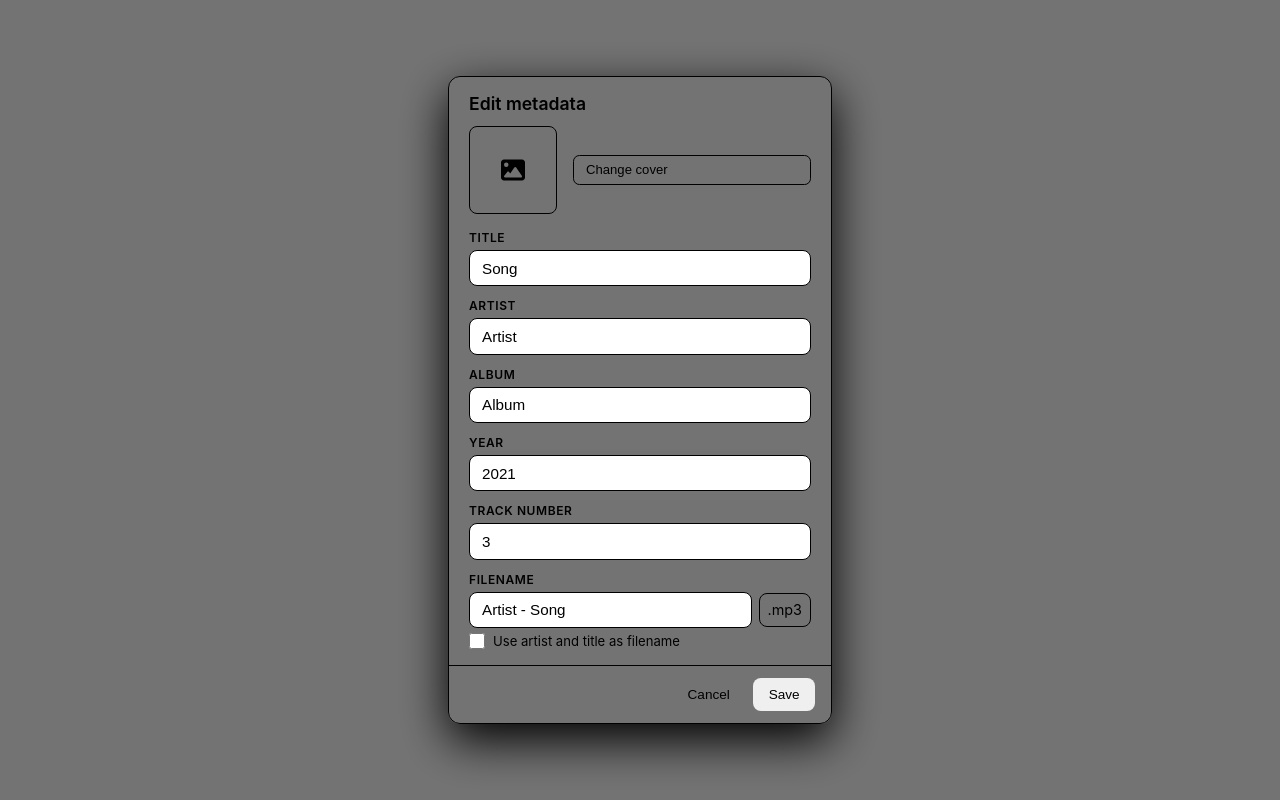
Test: EditMetadataModal › auto-filename checkbox › disables the filename input while checkbox is checked
What coordinates should you click on to do the following:
click the checkbox
I would click on:
 (477, 641)
Its box is top-left (469, 633), bottom-right (485, 649).
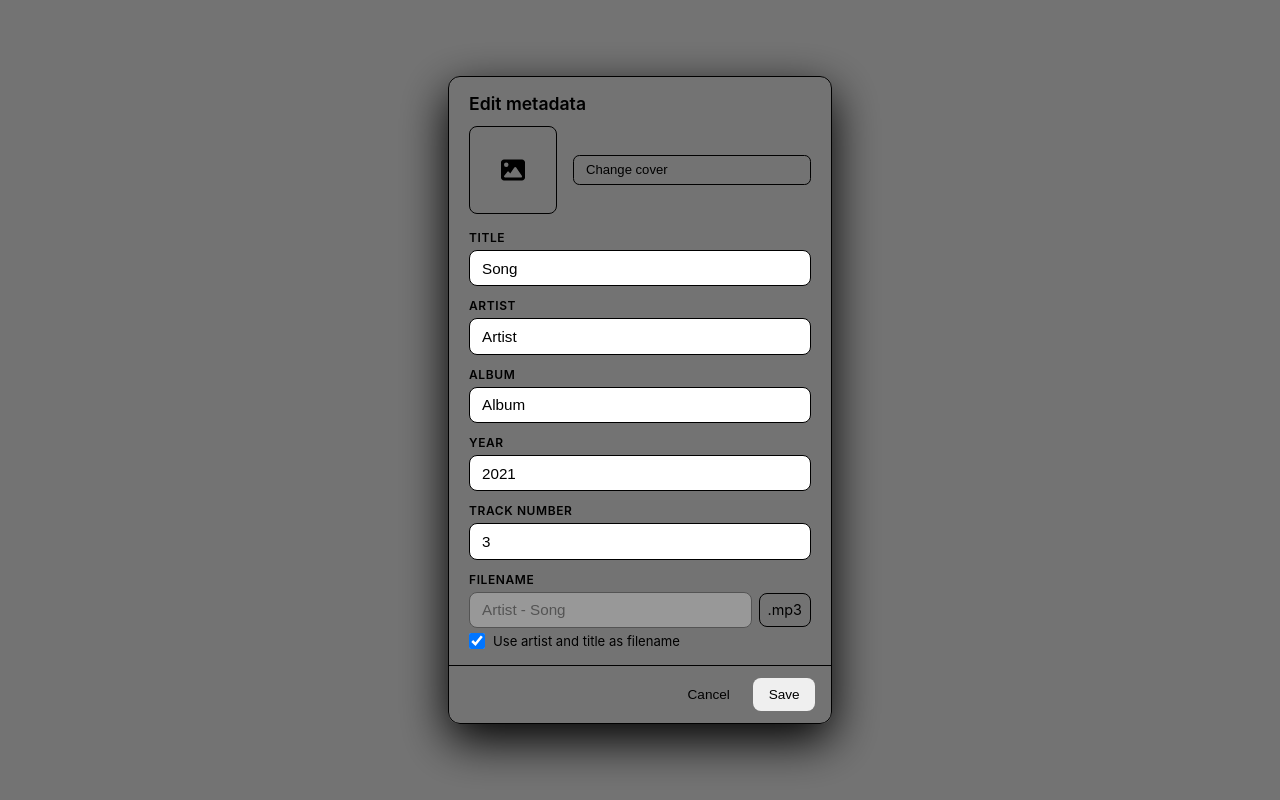
Now the field labelled "Filename" is disabled, box top-left (469, 592), bottom-right (752, 628)
